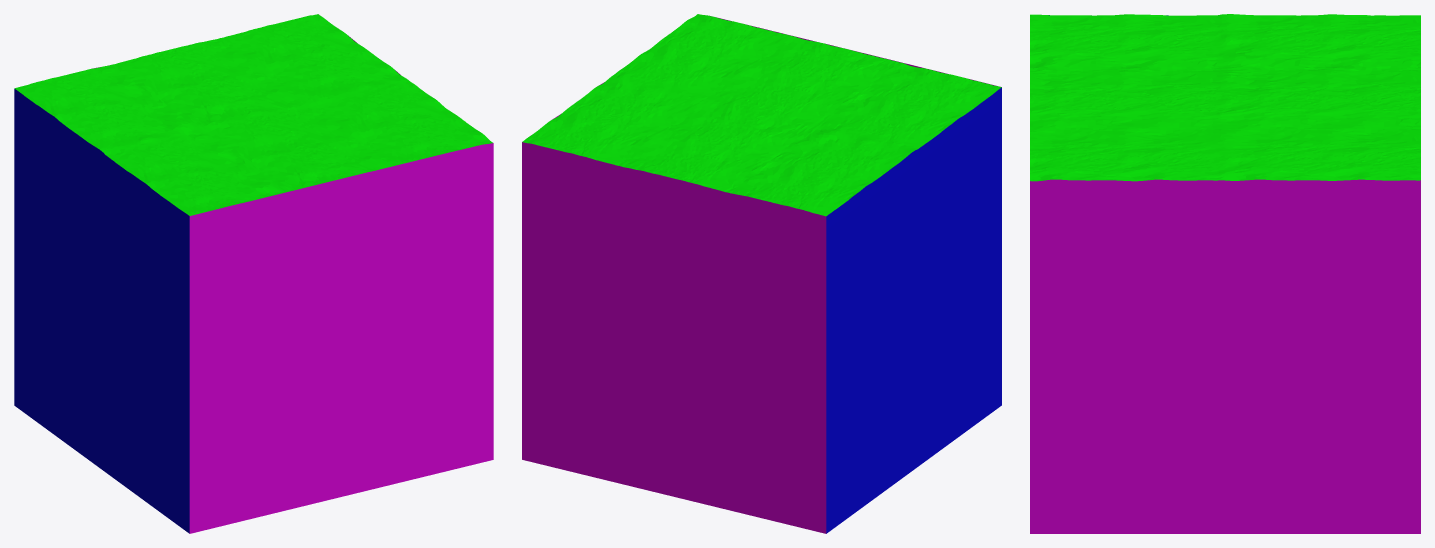
File: ocean_sample_A_25k.fbx
The picture shows the model from 3 angles, left to right: view 1: azimuth 30°, elevation 25°; view 2: azimuth 150°, elevation 25°; view 3: azimuth 270°, elevation 25°; orthographic projection. The views are drawn at different scales.
Parts seen in each view (by area): view 1: ocean_sample_A_25k_bottom, ocean_sample_A_25k_top; view 2: ocean_sample_A_25k_bottom, ocean_sample_A_25k_top; view 3: ocean_sample_A_25k_bottom, ocean_sample_A_25k_top.
Boxes of the visible parts, x1=… form: ocean_sample_A_25k_bottom: x1=14, y1=102, x2=493, y2=533; ocean_sample_A_25k_top: x1=14, y1=14, x2=493, y2=229; ocean_sample_A_25k_bottom: x1=522, y1=101, x2=1001, y2=533; ocean_sample_A_25k_top: x1=522, y1=14, x2=1001, y2=229; ocean_sample_A_25k_bottom: x1=1030, y1=195, x2=1420, y2=533; ocean_sample_A_25k_top: x1=1030, y1=14, x2=1420, y2=195.
Bounding box in the file's own units: 4205 × 4218 × 4205.
